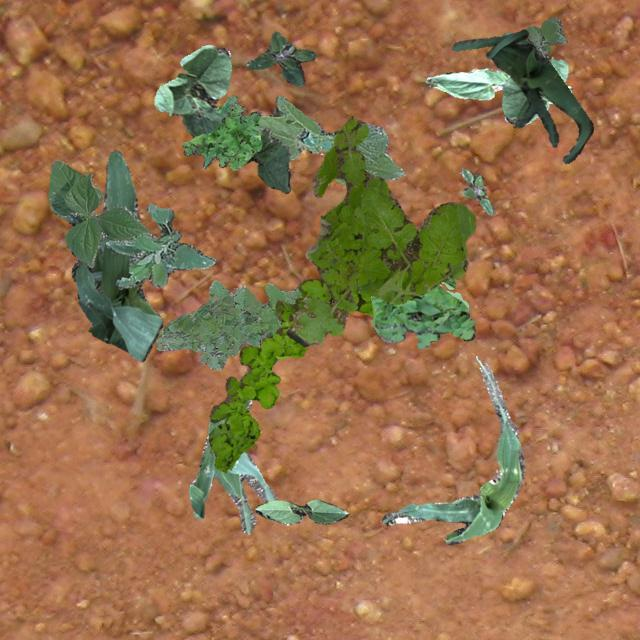crop: (382, 364, 524, 544), (60, 150, 162, 360), (451, 29, 592, 162), (256, 94, 404, 184), (188, 398, 276, 534), (46, 160, 148, 266), (154, 44, 230, 136), (501, 36, 566, 122), (424, 66, 552, 102), (246, 126, 288, 192), (255, 498, 346, 524)
weed: (286, 114, 474, 346), (208, 278, 372, 470), (154, 280, 302, 368), (104, 202, 214, 288), (370, 276, 474, 348), (180, 94, 260, 170), (246, 30, 316, 86), (526, 15, 566, 58), (460, 168, 492, 215)
